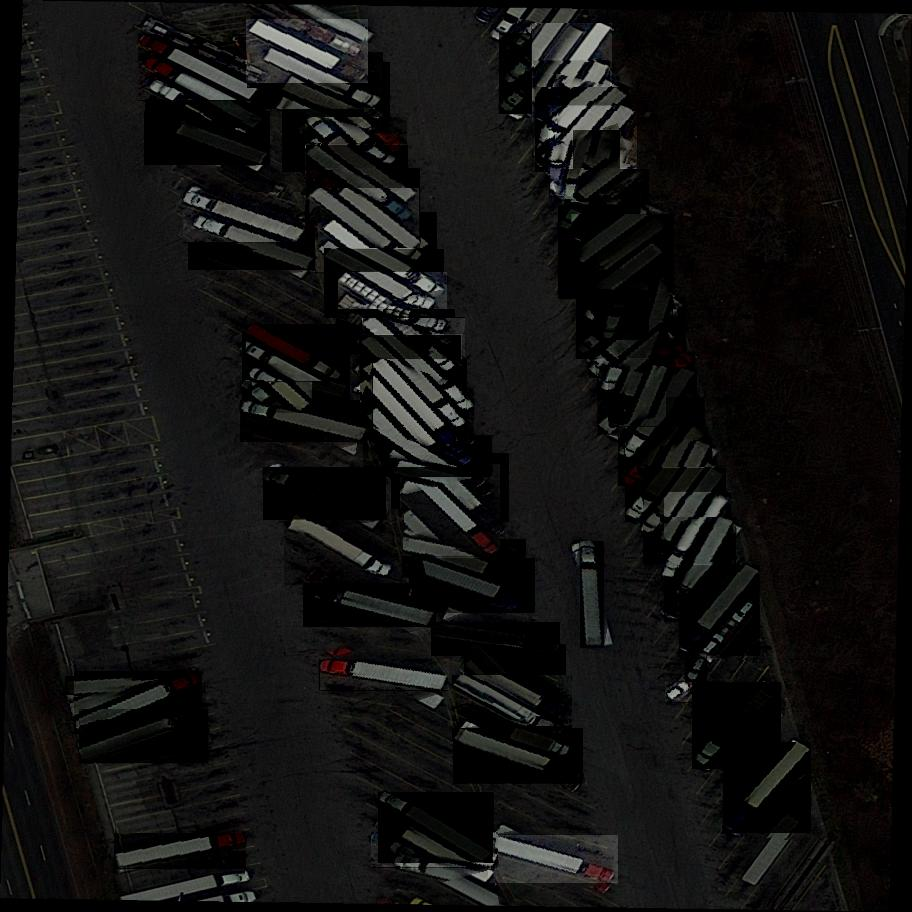large-vehicle: (332, 210, 438, 312), (288, 60, 391, 161), (464, 643, 566, 743), (360, 333, 463, 432), (308, 165, 420, 254), (243, 328, 351, 420), (304, 115, 407, 211), (402, 461, 502, 559), (362, 316, 465, 411), (282, 84, 389, 175), (284, 507, 403, 588), (373, 358, 468, 459), (311, 187, 420, 274), (145, 52, 265, 131), (363, 386, 474, 470), (379, 790, 495, 866), (324, 248, 444, 321), (598, 351, 698, 438), (453, 673, 573, 745), (723, 741, 812, 838), (643, 466, 727, 568), (138, 33, 260, 103), (550, 105, 638, 202), (533, 22, 615, 126), (588, 295, 687, 381), (392, 452, 510, 524), (534, 59, 611, 168), (306, 144, 409, 225), (625, 426, 708, 526), (247, 18, 369, 86), (572, 213, 674, 294), (499, 31, 595, 117), (559, 203, 641, 303), (74, 671, 202, 735), (618, 396, 706, 489), (338, 271, 448, 345), (691, 682, 781, 772), (536, 87, 629, 174), (619, 365, 697, 467), (576, 279, 673, 361), (665, 516, 736, 625), (680, 564, 761, 659), (453, 728, 584, 786), (80, 709, 209, 766), (261, 51, 384, 110), (410, 557, 535, 615), (145, 109, 270, 166), (263, 466, 386, 522), (647, 438, 712, 543), (188, 218, 315, 271), (183, 191, 306, 245), (488, 834, 619, 884), (609, 317, 666, 430), (664, 490, 732, 581), (303, 582, 436, 628), (564, 168, 650, 238), (247, 323, 345, 384), (602, 227, 650, 344), (337, 309, 456, 356), (367, 434, 492, 478), (573, 128, 621, 242), (240, 400, 367, 443), (400, 539, 526, 579), (114, 833, 246, 870), (371, 832, 498, 869), (432, 622, 560, 657), (320, 659, 449, 692), (251, 360, 313, 416), (514, 724, 573, 773), (65, 677, 197, 696), (580, 541, 603, 648)
small-vehicle: (731, 600, 756, 628), (665, 682, 692, 705), (686, 656, 708, 684), (707, 633, 726, 660)
